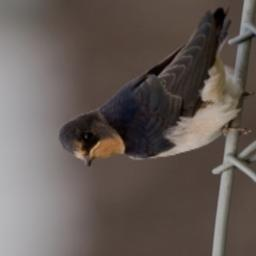Swallow: (50, 0, 256, 176)
